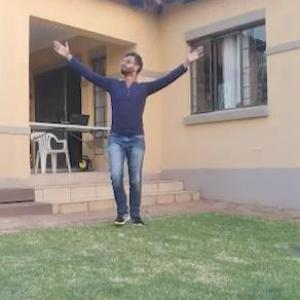takeoff: (66, 47, 209, 230)
